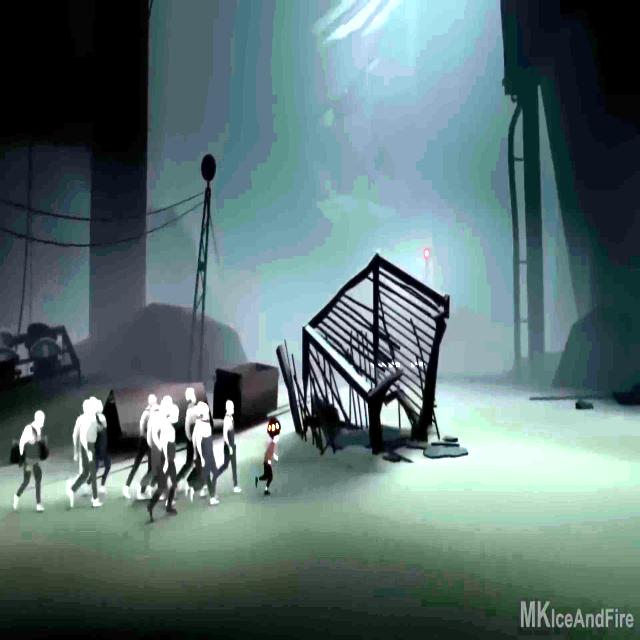boy: (255, 435, 279, 495)
zombie: (147, 405, 179, 521), (69, 397, 101, 507), (124, 394, 156, 499), (14, 411, 44, 512), (191, 403, 219, 504), (222, 400, 241, 493), (183, 388, 196, 483), (98, 399, 111, 493)
